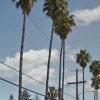Palm tree: (13, 1, 94, 78)
